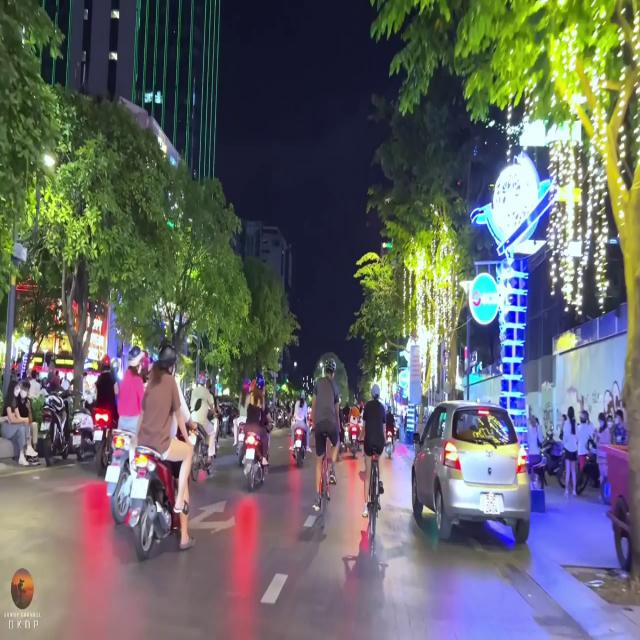bien_trang: (483, 496, 502, 516)
